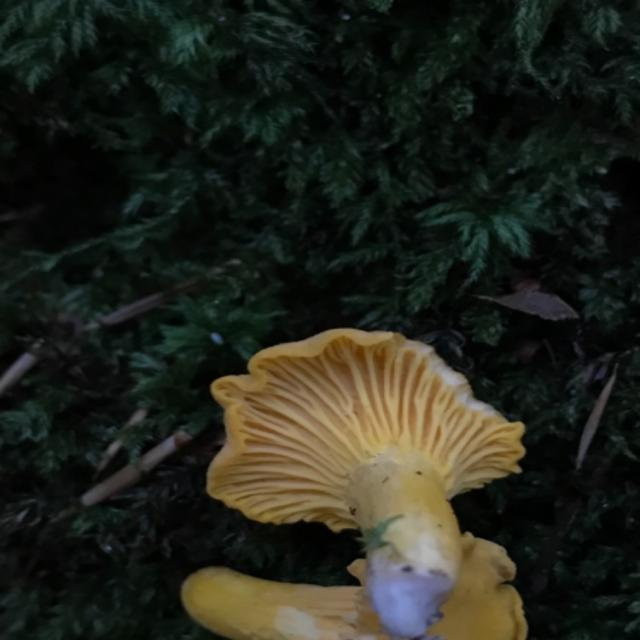Cantharellus cibarius: (187, 328, 529, 640)
